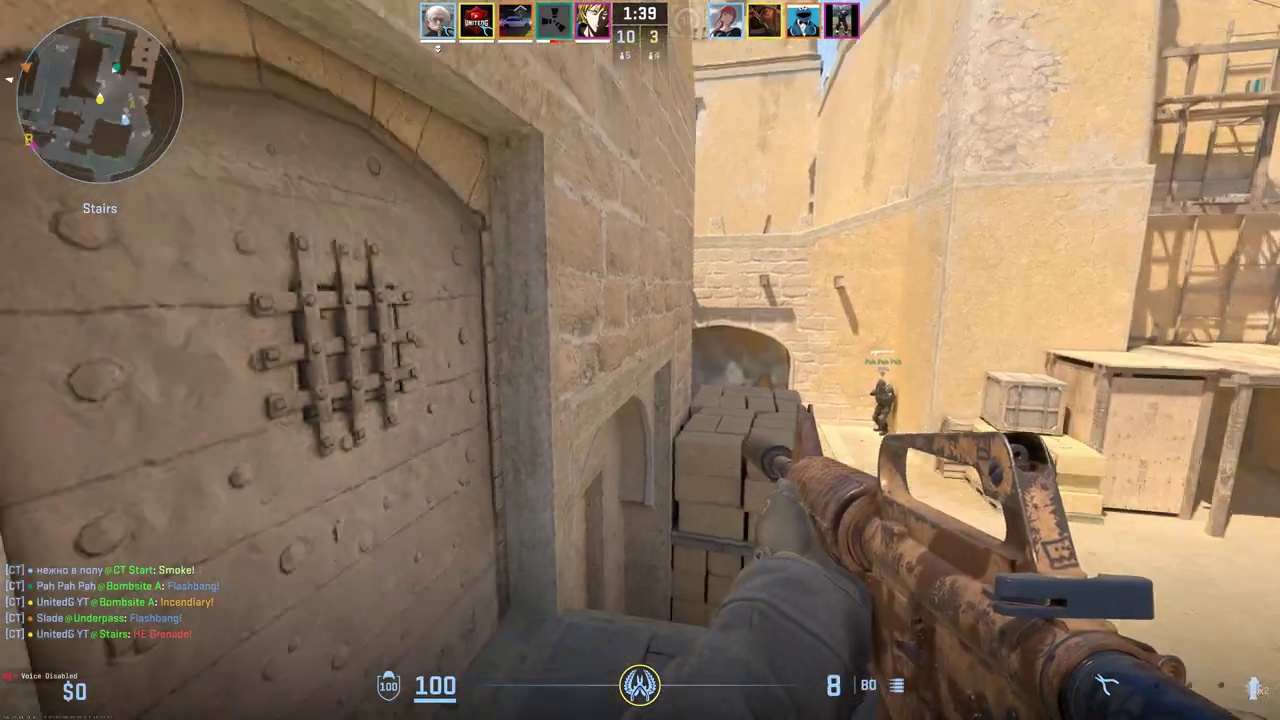CT: (871, 379, 895, 432)
